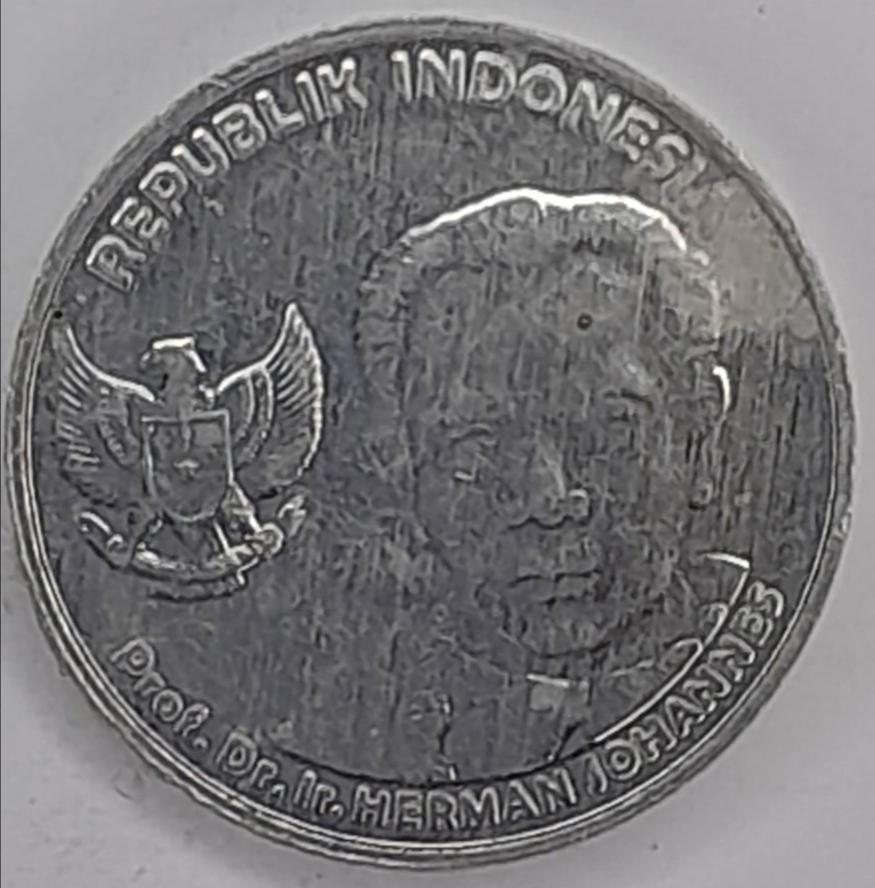coin_100_e2016: (0, 8, 861, 871)
